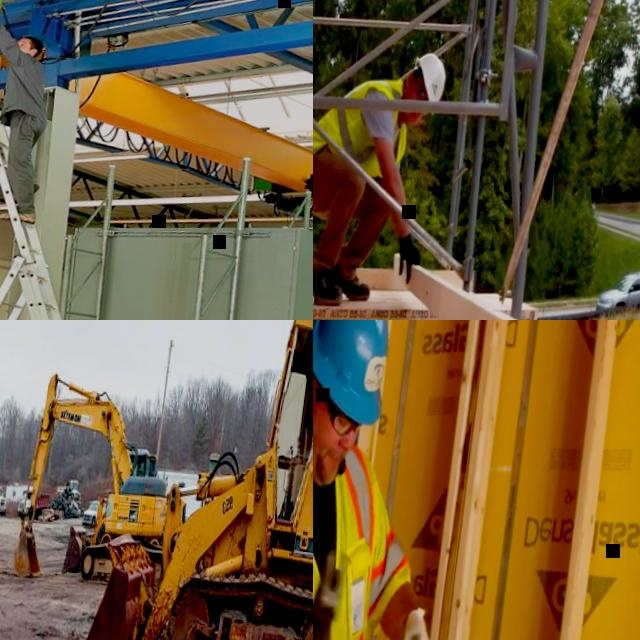Hardhat: (313, 320, 398, 426), (408, 52, 447, 116), (99, 499, 102, 503)
NO-Hardhat: (20, 36, 44, 54)
NO-Mask: (313, 441, 340, 486), (401, 92, 421, 125)
NO-Safety Vest: (1, 52, 51, 123)
Person: (313, 320, 477, 640), (313, 37, 449, 319), (0, 0, 63, 226), (92, 498, 103, 536)
Safety Vest: (313, 422, 426, 640), (313, 66, 414, 181), (96, 505, 102, 519)
machinery: (57, 320, 313, 640), (8, 371, 200, 596), (16, 487, 50, 522), (54, 478, 81, 507), (0, 476, 8, 514)
vehicle: (593, 265, 640, 319), (81, 495, 108, 529)
